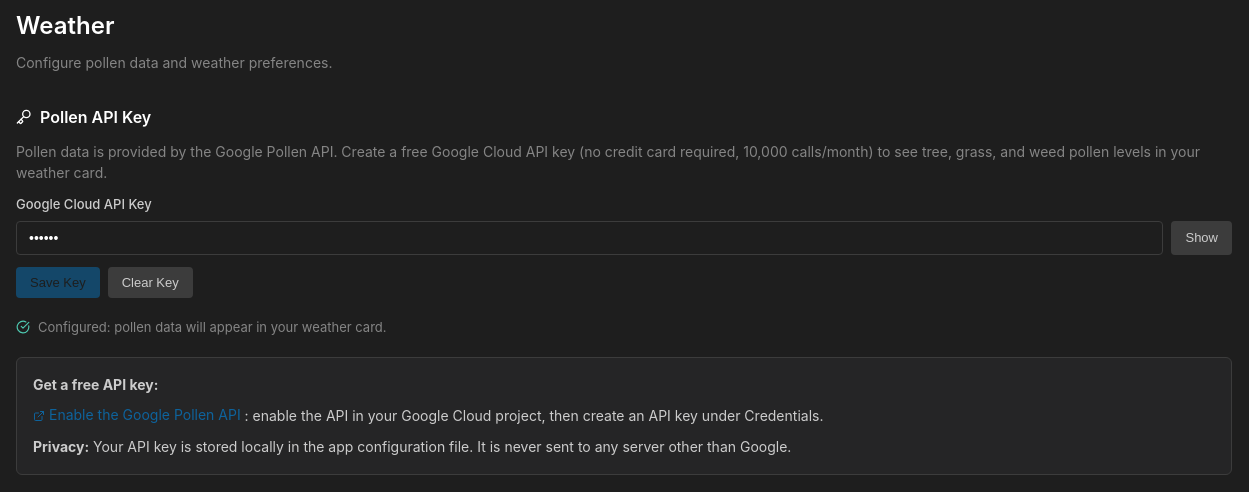
Test: SettingsWeather › toggles key visibility
Expected: the password field showing "my-key" is shown, [16, 220, 1164, 254]
Step 1. Click the button titled "Show key" → coordinates (1202, 238), box [1172, 220, 1232, 254]
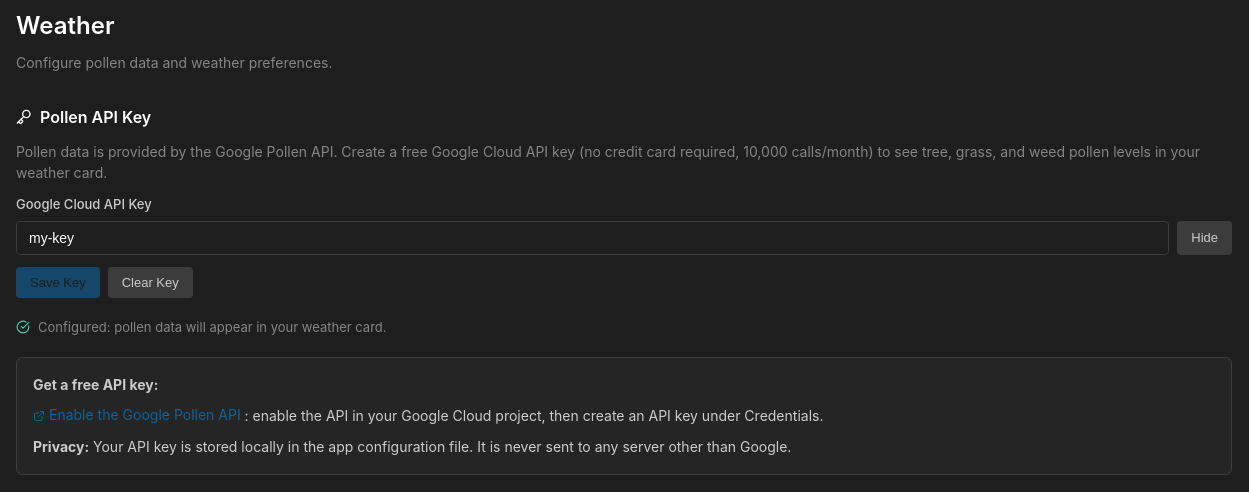
Result: the field with placeholder "Enter your Google Cloud API key…" shows its text at [16, 220, 1169, 254]
Step 2. Click the button titled "Hide key" → coordinates (1205, 238), box [1177, 220, 1232, 254]
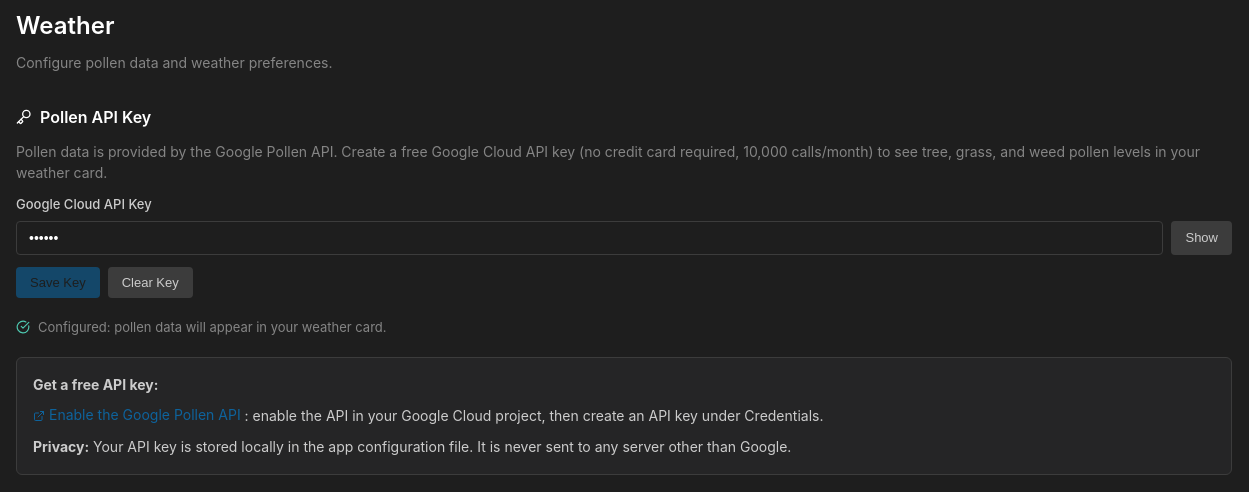
Result: the password field with placeholder "Enter your Google Cloud API key…" hides its text at [16, 220, 1164, 254]
